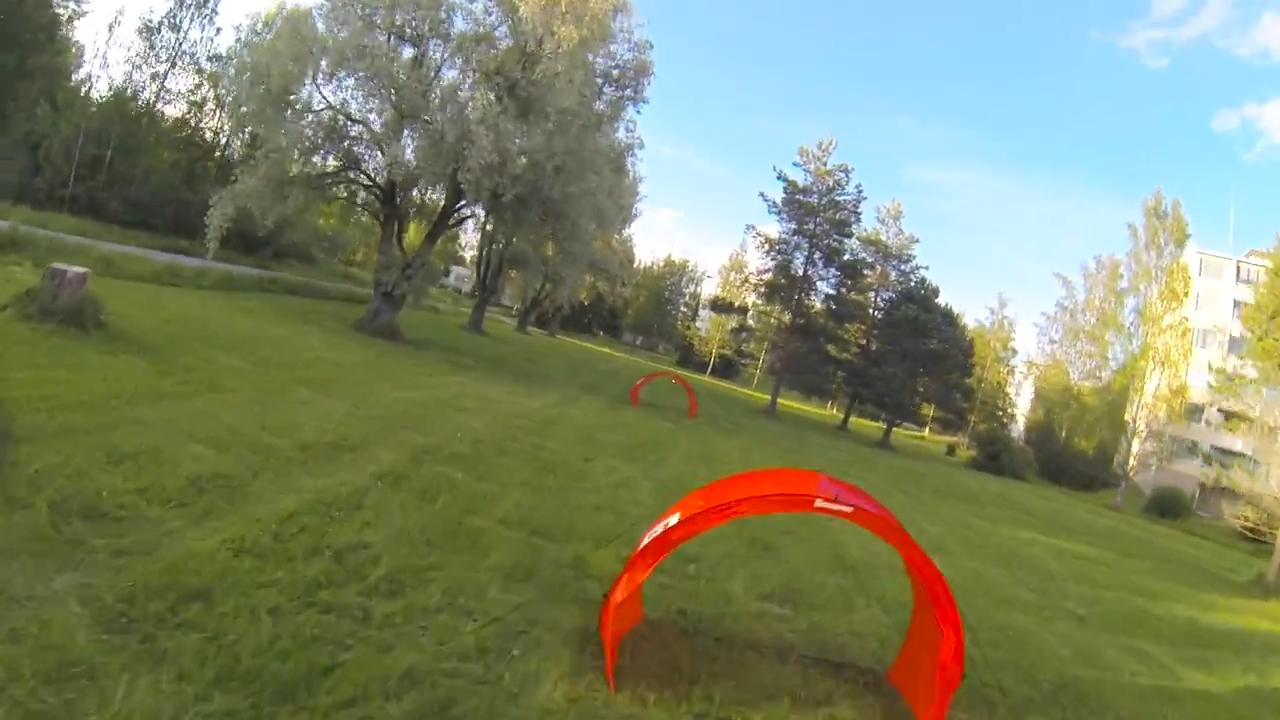gate: (590, 465, 966, 717)
